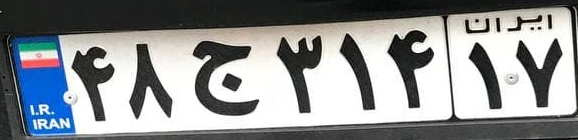character: (188, 36, 264, 117), (381, 26, 441, 114), (274, 31, 328, 124), (123, 35, 178, 126), (67, 40, 121, 124), (334, 26, 383, 116), (509, 35, 567, 111), (459, 35, 510, 113)
